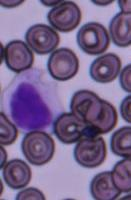L: (0, 66, 63, 134)
